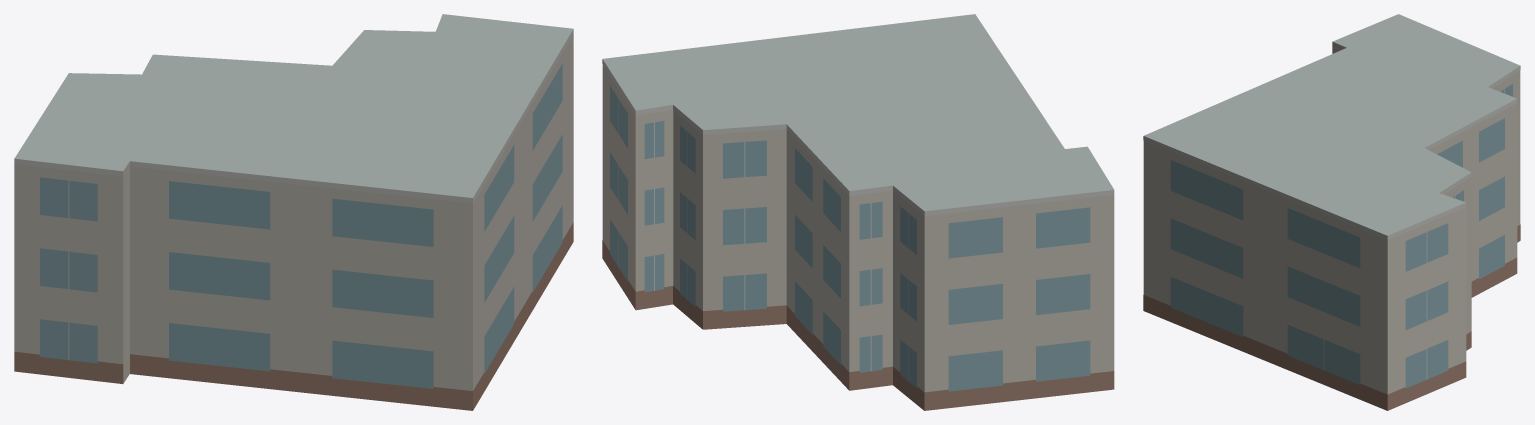
File: survey-upis-33005883.glb
The picture shows the model from 3 angles, left to right: view 1: azimuth 30°, elevation 25°; view 2: azimuth 150°, elevation 25°; view 3: azimuth 270°, elevation 25°; orthographic projection. The views are drawn at different scales.
Visible parts, largest first — view 1: survey-upis-33005883.tmp; view 2: survey-upis-33005883.tmp; view 3: survey-upis-33005883.tmp.
Boxes of the visible parts, bbox=[...] form: survey-upis-33005883.tmp: bbox=[14, 14, 573, 410]; survey-upis-33005883.tmp: bbox=[602, 14, 1114, 410]; survey-upis-33005883.tmp: bbox=[1143, 14, 1520, 410].
Size of the model in its own units: 26.63 by 9.8 by 19.13.
